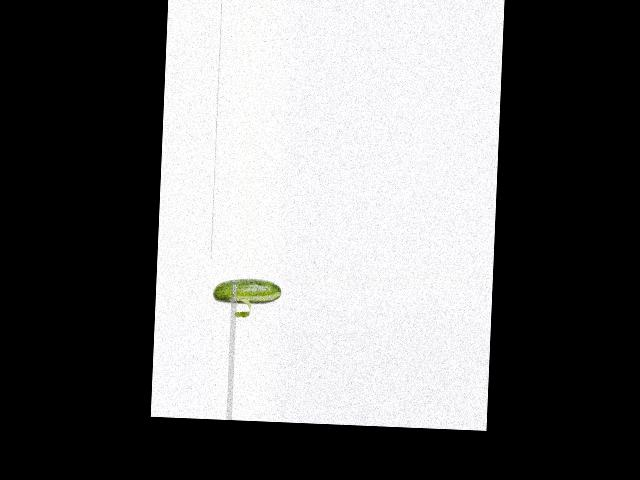cucumber: (212, 277, 281, 306)
